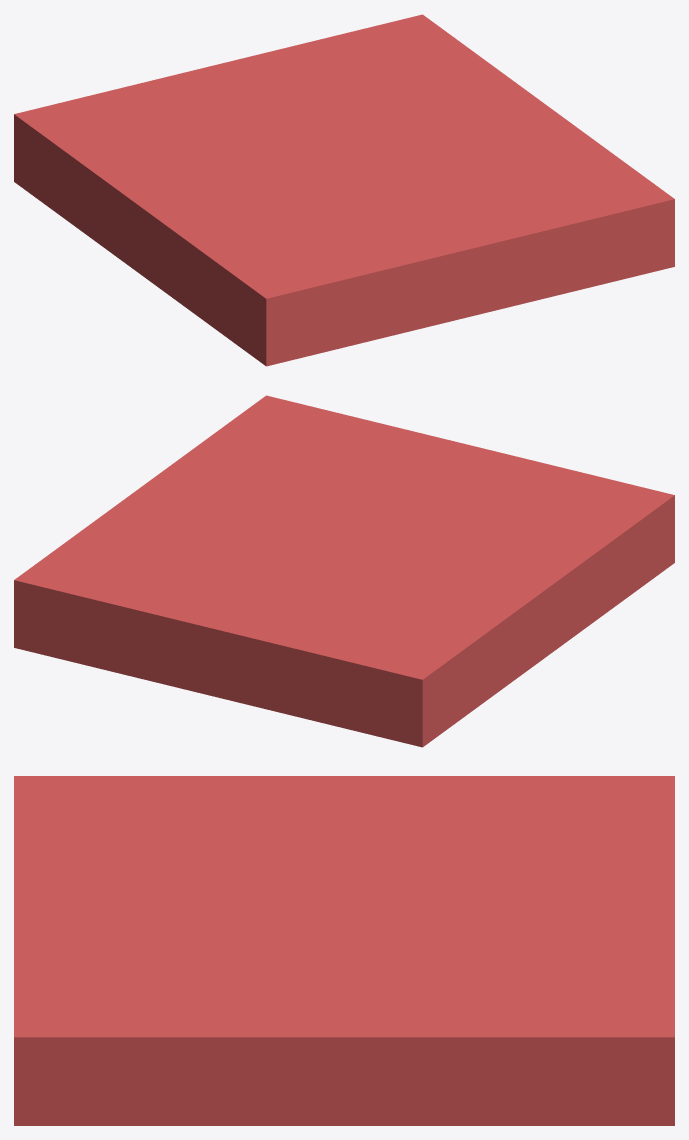
The model's file is medkit_item.glb.
3 views of the same model, one above another, from view 1: azimuth 30°, elevation 25°; view 2: azimuth 150°, elevation 25°; view 3: azimuth 270°, elevation 25° (orthographic). The views are drawn at different scales.
Parts seen in each view (by area): view 1: medkit_item_mesh; view 2: medkit_item_mesh; view 3: medkit_item_mesh.
Boxes of the visible parts, x1=… form: medkit_item_mesh: x1=14, y1=14, x2=674, y2=366; medkit_item_mesh: x1=14, y1=395, x2=674, y2=747; medkit_item_mesh: x1=14, y1=776, x2=674, y2=1125.
Size of the model in its own units: 0.0967 by 0.0153 by 0.1034.
